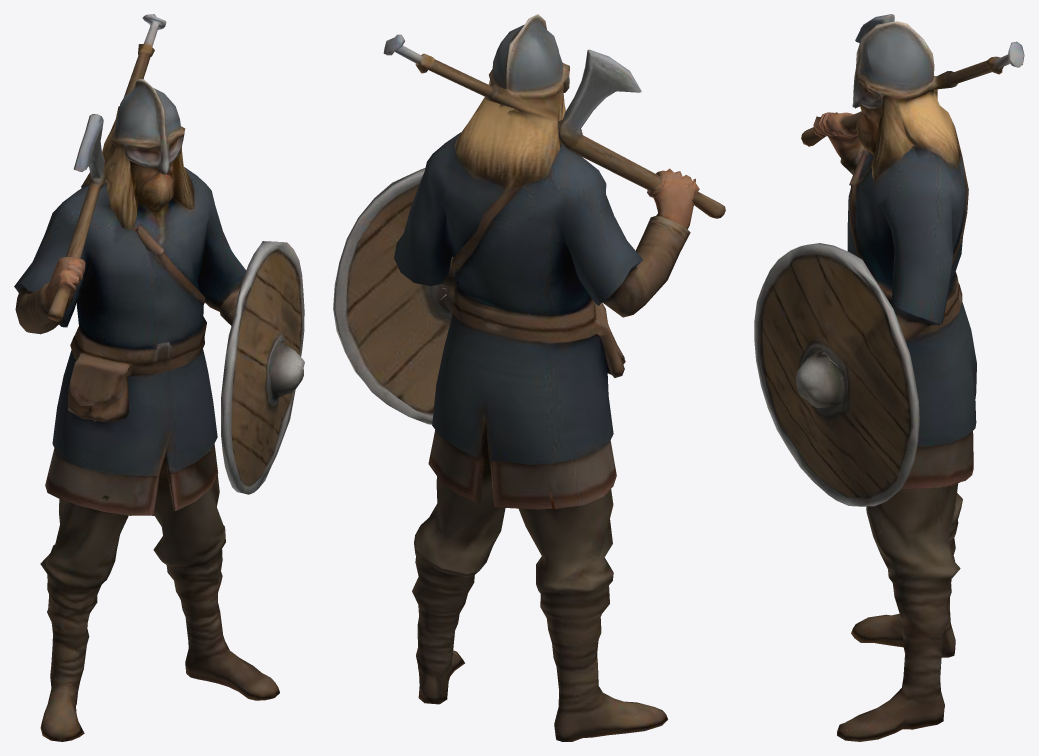
Rendered from warrior_viking_raider.glb.
3 renders of one model, left to right at view 1: azimuth 30°, elevation 25°; view 2: azimuth 150°, elevation 25°; view 3: azimuth 270°, elevation 25°, orthographic. The views are drawn at different scales.
Parts seen in each view (by area): view 1: warrior_viking_raider; view 2: warrior_viking_raider; view 3: warrior_viking_raider.
Part boxes in pixels (box(x1,y1,x2,y2)): warrior_viking_raider: box(14, 14, 304, 741); warrior_viking_raider: box(333, 14, 725, 741); warrior_viking_raider: box(754, 14, 1024, 741).
Bounding box in the file's own units: 0.2241 × 0.4429 × 0.1611.
1 material, 1 textured.
